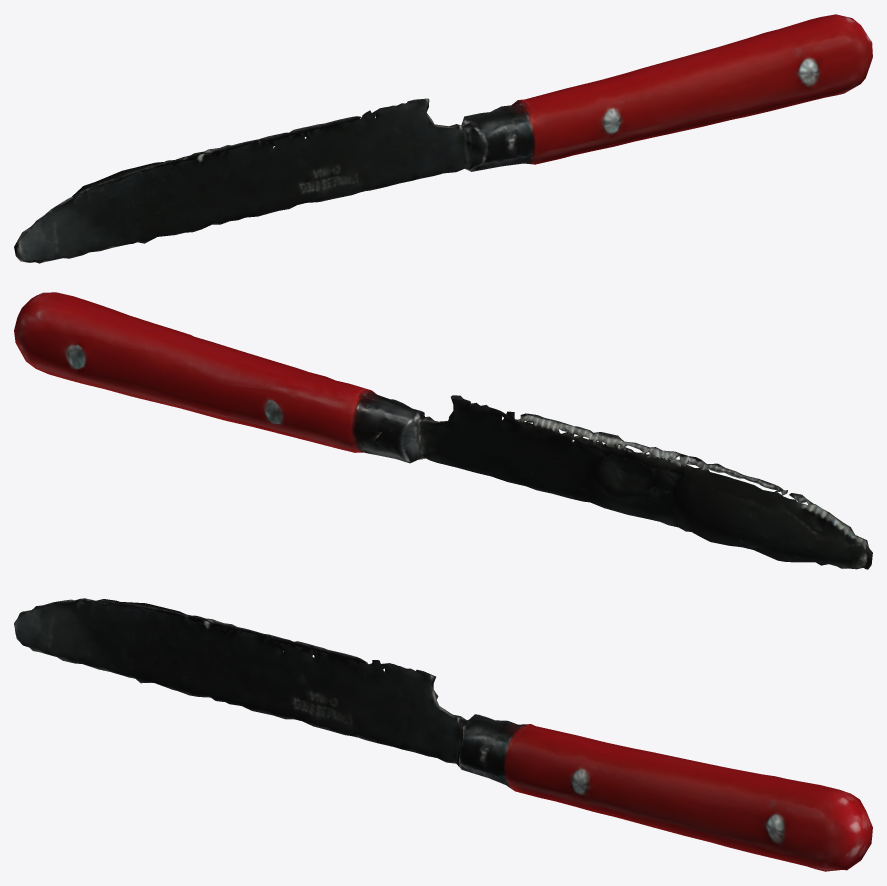
The picture shows the model from 3 angles, top to bottom: view 1: azimuth 30°, elevation 25°; view 2: azimuth 150°, elevation 25°; view 3: azimuth 330°, elevation 25°; orthographic projection. The views are drawn at different scales.
Parts seen in each view (by area): view 1: textured.043; view 2: textured.043; view 3: textured.043.
Part boxes in pixels (x1,y1,x2,y2): textured.043: [14, 14, 872, 263]; textured.043: [14, 292, 872, 569]; textured.043: [14, 598, 872, 871].
Bounding box in the file's own units: 0.2148 × 0.0205 × 0.0226.
1 material, 1 textured.
